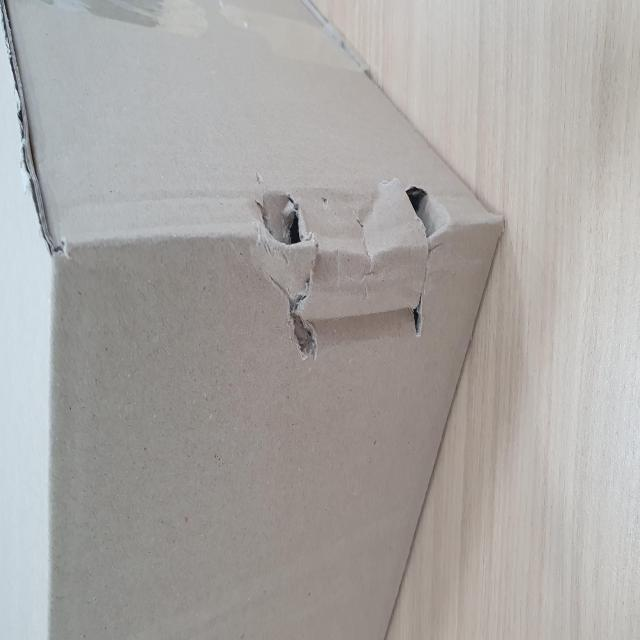damaged: (203, 477, 251, 554)
